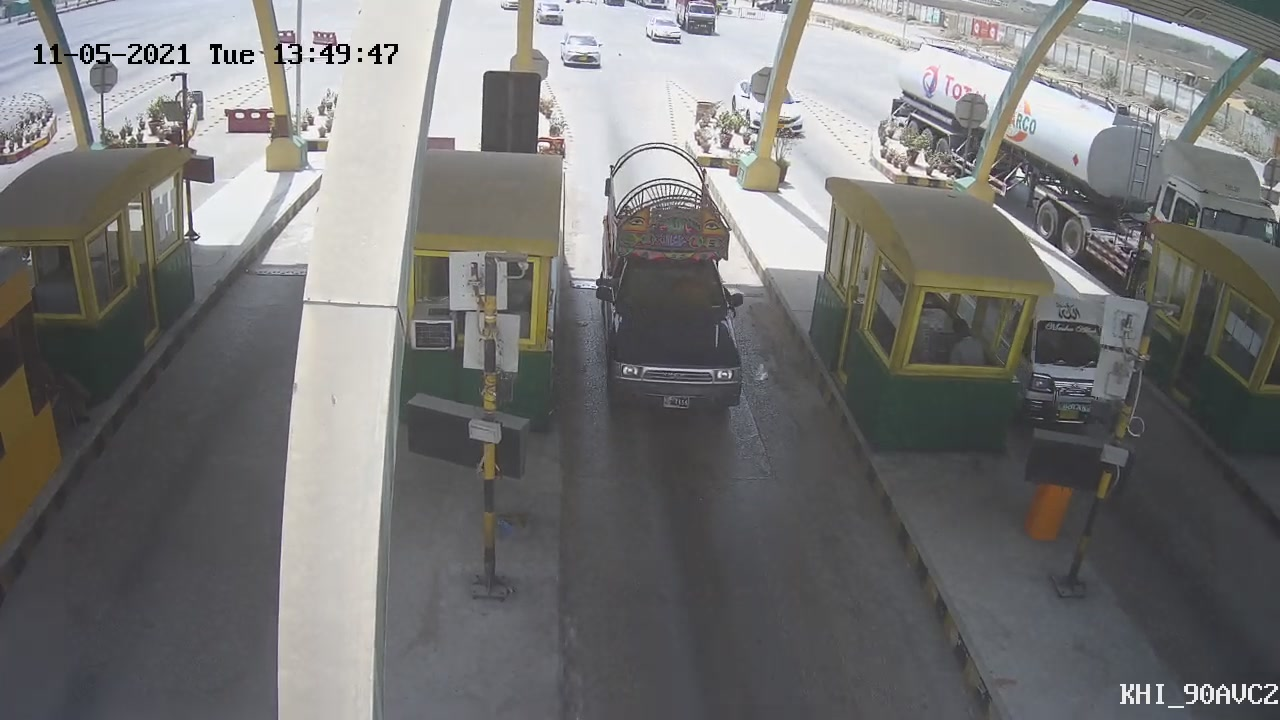F1: (593, 137, 746, 424)
